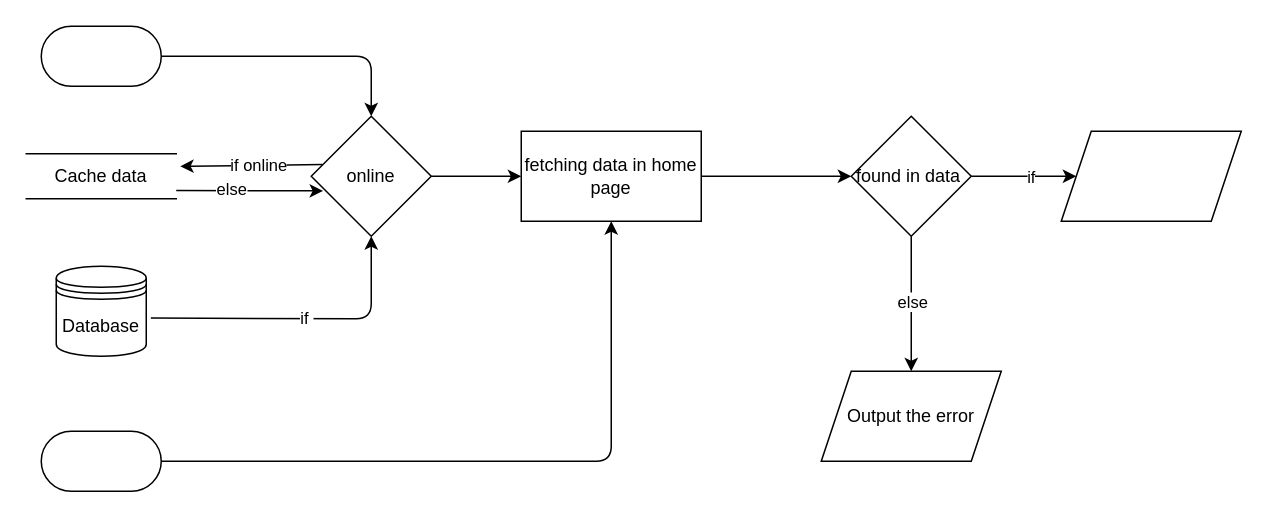
Some shapes in this 1268 by 518 pixel diagram are drawn without their labels. The shapes that lost their labels are listed below. From the top down, each one's centre as x and y in pixels, then its label:
At point 100,55: "user".
At point 1150,175: "Output the data".
At point 100,460: "user search".
